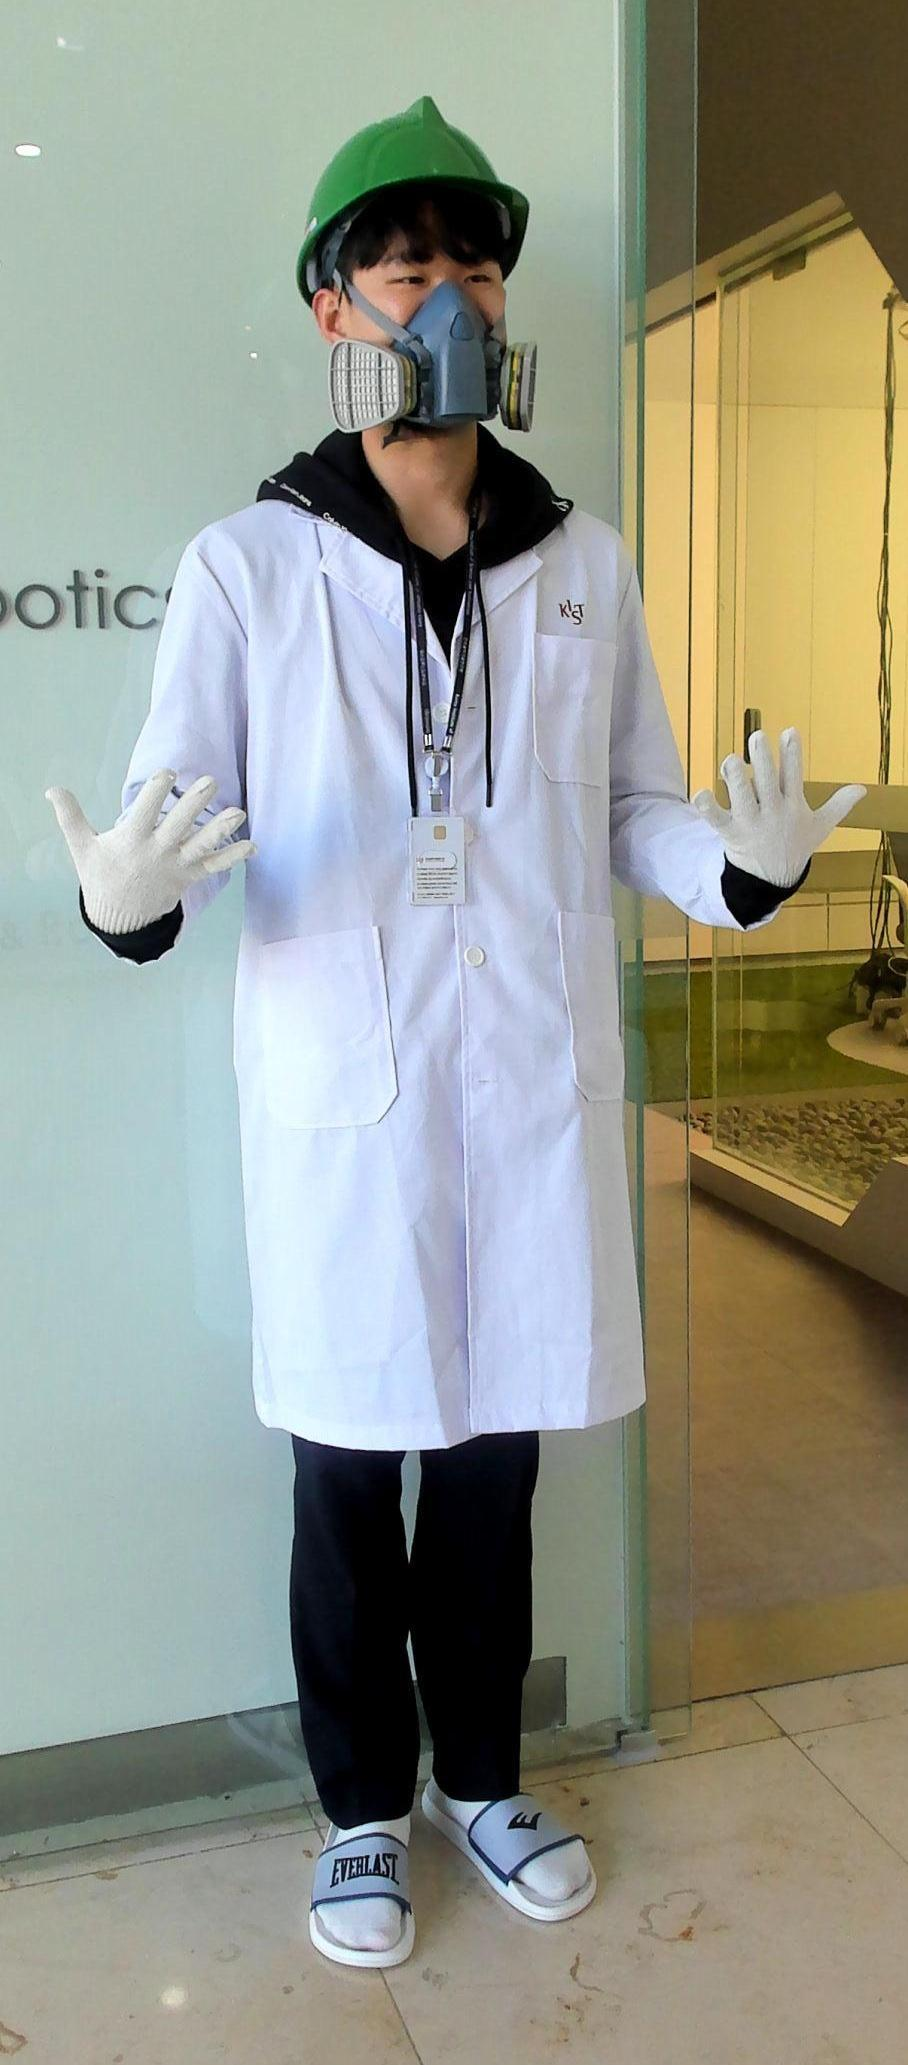lab_coat: (228, 511, 651, 1434)
